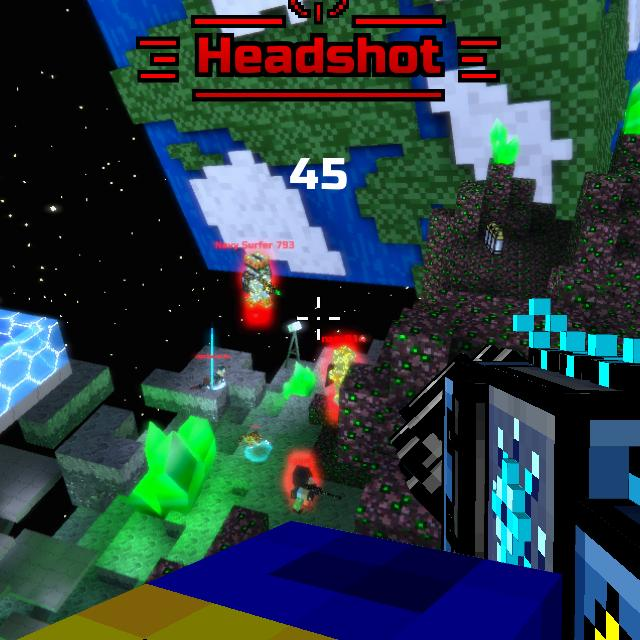Enemy: (241, 252, 273, 308), (329, 345, 356, 406), (291, 465, 317, 514)
